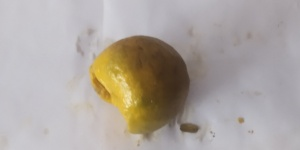BAD: (91, 35, 192, 132)
